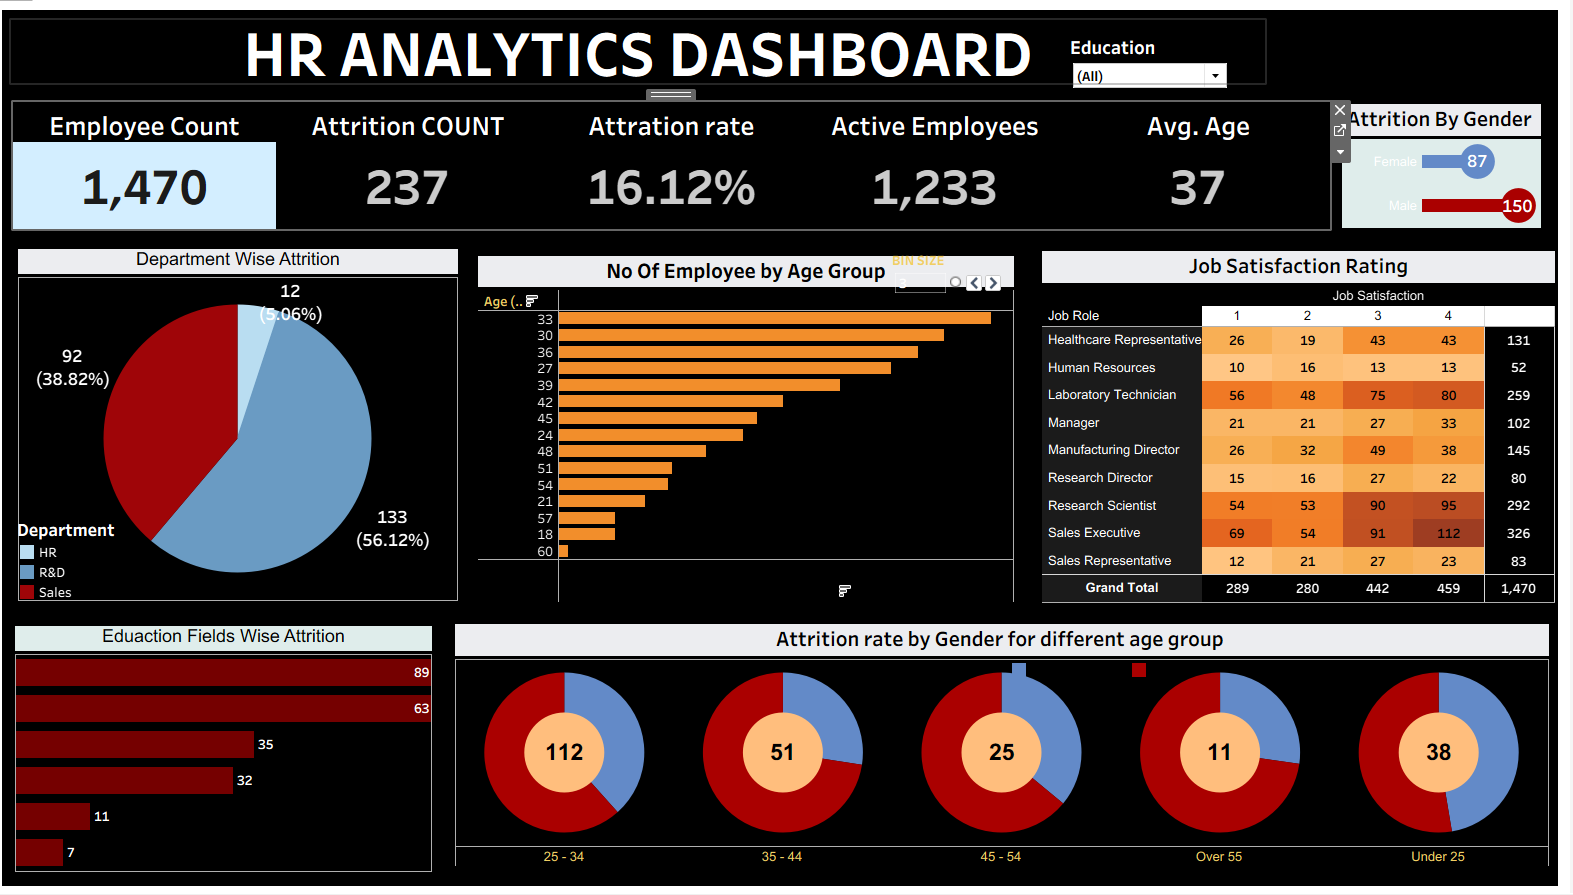

This screenshot's page, from the dashboard's own definition file:
{"tool":"tableau","page":{"name":"HR analytics Dashboard ","canvas":[1580,900],"ordinal":1},"visuals":[{"type":"image","param":"C:/Users/ash/Desktop/data analytics/HR background Final.png","box":[8,8,1564,884]},{"type":"text","box":[21,22,1254,63]},{"type":"filter","title":"Department Wise Attrition","param":"[federated.1ljw8pt06lv99m1f2k1rl1j9gdym].[none:Education:nk]","box":[903,31,160,166]},{"type":"worksheet","title":"KPI..","mark":"Text","box":[23,104,1317,127]},{"type":"worksheet","title":"Attrition By Gender ","mark":"Automatic","rows":["Gender"],"cols":["Calculation_0216922113859584","Calculation_0216922113859584"],"box":[1352,106,199,124]},{"type":"worksheet","title":"Department Wise Attrition","mark":"Pie","box":[28,251,440,352]},{"type":"worksheet","title":"Job Satisfaction Rating","mark":"Square","rows":["Job Role"],"cols":["Job Satisfaction"],"box":[1052,253,513,352]},{"type":"parameter","param":"[Parameters].[Parameter 1]","box":[800,256,221,42]},{"type":"worksheet","title":"No Of Employee by Age Group","mark":"Automatic","rows":["Age (bin)"],"cols":["Employee Count"],"box":[488,258,536,347]},{"type":"legend","title":"No Of Employee by Age Group","param":"[federated.1ljw8pt06lv99m1f2k1rl1j9gdym].[sum:Employee Count:qk]","box":[874,304,140,88]},{"type":"legend","title":"Department Wise Attrition","param":"[federated.1ljw8pt06lv99m1f2k1rl1j9gdym].[none:Department:nk]","box":[27,520,164,85]},{"type":"worksheet","title":"Attrition rate by Gender for different age group ","mark":"Pie","rows":["Calculation_0914562309054467","Calculation_0914562309054467"],"cols":["CF_age band"],"box":[465,626,1094,243]},{"type":"legend","title":"Attrition rate by Gender for different age group ","param":"[federated.1ljw8pt06lv99m1f2k1rl1j9gdym].[none:Gender:nk]","box":[935,627,603,38]},{"type":"worksheet","title":"Eduaction Fields Wise Attrition","mark":"Automatic","rows":["Education Field"],"cols":["Calculation_0216922113859584"],"box":[25,628,417,246]}]}

Visuals, with their boxes in screenshot pixels (x1, y1, x2, y2), scaled from the page's 1580x900 canvas onto the 1573x895 screenshot:
image: detection(8, 8, 1565, 887)
text: detection(21, 22, 1269, 85)
"Department Wise Attrition" filter: detection(899, 31, 1058, 196)
"KPI.." worksheet (Text marks): detection(23, 103, 1334, 230)
"Attrition By Gender " worksheet: detection(1346, 105, 1544, 229)
"Department Wise Attrition" worksheet (Pie marks): detection(28, 250, 466, 600)
"Job Satisfaction Rating" worksheet (Square marks): detection(1047, 252, 1558, 602)
parameter: detection(796, 255, 1016, 296)
"No Of Employee by Age Group" worksheet: detection(486, 257, 1019, 602)
"No Of Employee by Age Group" legend: detection(870, 302, 1010, 390)
"Department Wise Attrition" legend: detection(27, 517, 190, 602)
"Attrition rate by Gender for different age group " worksheet (Pie marks): detection(463, 623, 1552, 864)
"Attrition rate by Gender for different age group " legend: detection(931, 624, 1531, 661)
"Eduaction Fields Wise Attrition" worksheet: detection(25, 625, 440, 869)
